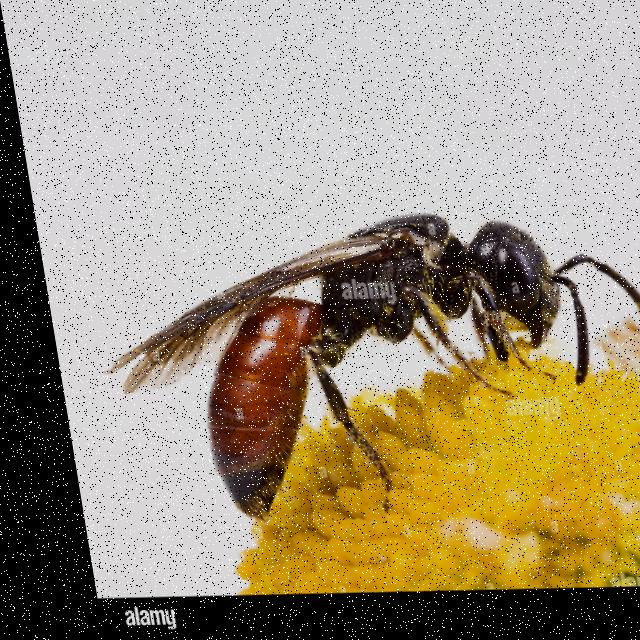Allodapula: (59, 194, 640, 532)
